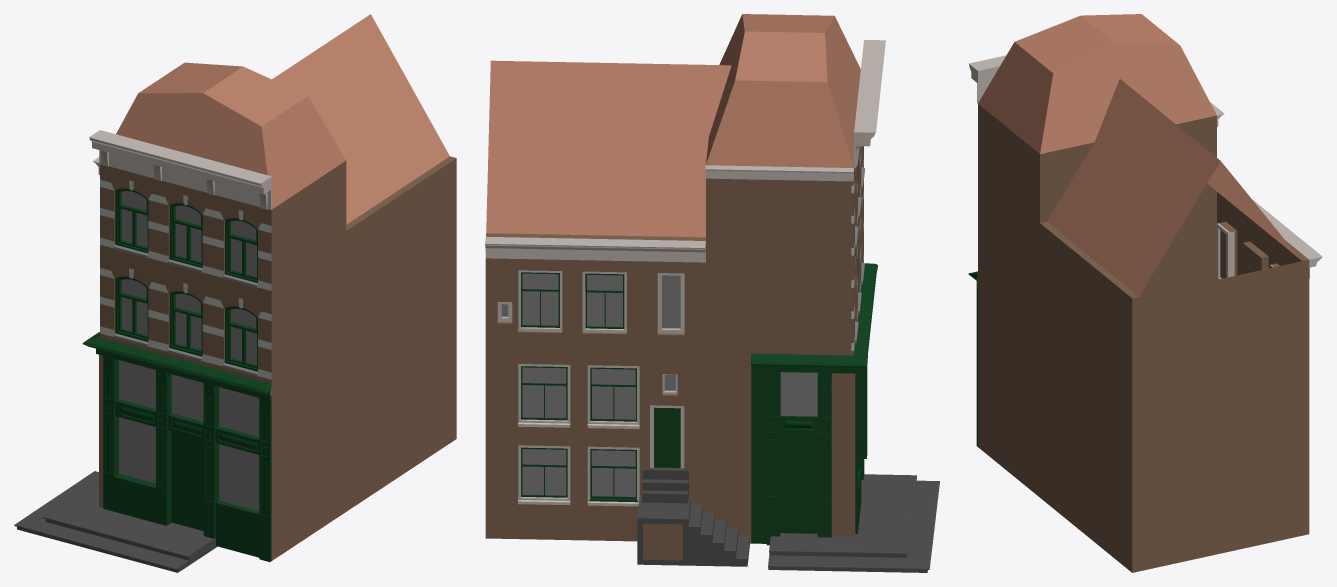
File: Kattenburgerplein_1.fbx
3 renders of one model, left to right at view 1: azimuth 30°, elevation 25°; view 2: azimuth 150°, elevation 25°; view 3: azimuth 270°, elevation 25°, orthographic. The views are drawn at different scales.
Parts seen in each view (by area): view 1: Kattenburgerplein_1, Kattenburgerplein_1.001, Kattenburgerplein_1_pui, Kattenburgerplein_1_roof, Kattenburgerplein_1_roof.001, Kattenburgerplein_1_pui.001, Kattenburgerplein_1_step, Kattenburgerplein_1_gutter, Kattenburgerplein_1_puibalk, window_frame_type1, window_frame_type1.001, window_frame_type1.003 (+3 smaller); view 2: Kattenburgerplein_1_pui, Kattenburgerplein_1_roof.001, Kattenburgerplein_1, Kattenburgerplein_1_roof, Kattenburgerplein_1.001, window_frame_type4_glass.010, Kattenburgerplein_1_step, Kattenburgerplein_1_stairs.002, window_frame_type4.020, Cube.030, Kattenburgerplein1_zijkant_windows, Kattenburgerplein_1_puibalk (+4 smaller); view 3: Kattenburgerplein_1.001, Kattenburgerplein_1, Kattenburgerplein_1_roof.001, Kattenburgerplein_1_roof, Cube.030, Kattenburgerplein_1_gutter, Kattenburgerplein1_zijkant_windows.
Boxes of the visible parts, bbox=[...] form: Kattenburgerplein_1: bbox=[100, 161, 346, 560]; Kattenburgerplein_1.001: bbox=[346, 156, 456, 511]; Kattenburgerplein_1_pui: bbox=[99, 354, 271, 561]; Kattenburgerplein_1_roof: bbox=[116, 62, 345, 209]; Kattenburgerplein_1_roof.001: bbox=[272, 14, 449, 224]; Kattenburgerplein_1_pui.001: bbox=[119, 360, 259, 510]; Kattenburgerplein_1_step: bbox=[14, 471, 217, 572]; Kattenburgerplein_1_gutter: bbox=[89, 130, 271, 209]; Kattenburgerplein_1_puibalk: bbox=[82, 332, 271, 400]; window_frame_type1: bbox=[115, 276, 148, 341]; window_frame_type1.001: bbox=[169, 291, 202, 356]; window_frame_type1.003: bbox=[115, 188, 148, 253]; Kattenburgerplein_1_pui: bbox=[485, 348, 867, 545]; Kattenburgerplein_1_roof.001: bbox=[486, 60, 731, 237]; Kattenburgerplein_1: bbox=[706, 146, 863, 355]; Kattenburgerplein_1_roof: bbox=[706, 14, 860, 167]; Kattenburgerplein_1.001: bbox=[485, 233, 705, 352]; window_frame_type4_glass.010: bbox=[522, 273, 635, 496]; Kattenburgerplein_1_step: bbox=[768, 474, 939, 572]; Kattenburgerplein_1_stairs.002: bbox=[637, 467, 749, 566]; window_frame_type4.020: bbox=[518, 270, 639, 502]; Cube.030: bbox=[485, 236, 705, 262]; Kattenburgerplein1_zijkant_windows: bbox=[497, 273, 684, 468]; Kattenburgerplein_1_puibalk: bbox=[751, 263, 877, 373]; Kattenburgerplein_1.001: bbox=[1040, 192, 1309, 572]; Kattenburgerplein_1: bbox=[978, 104, 1216, 497]; Kattenburgerplein_1_roof.001: bbox=[1047, 79, 1301, 296]; Kattenburgerplein_1_roof: bbox=[978, 14, 1216, 153]; Cube.030: bbox=[1252, 199, 1322, 278]; Kattenburgerplein_1_gutter: bbox=[969, 55, 1006, 103]; Kattenburgerplein1_zijkant_windows: bbox=[1216, 223, 1234, 279].
Bounding box in the file's own units: 15.3 × 15.04 × 11.35.
